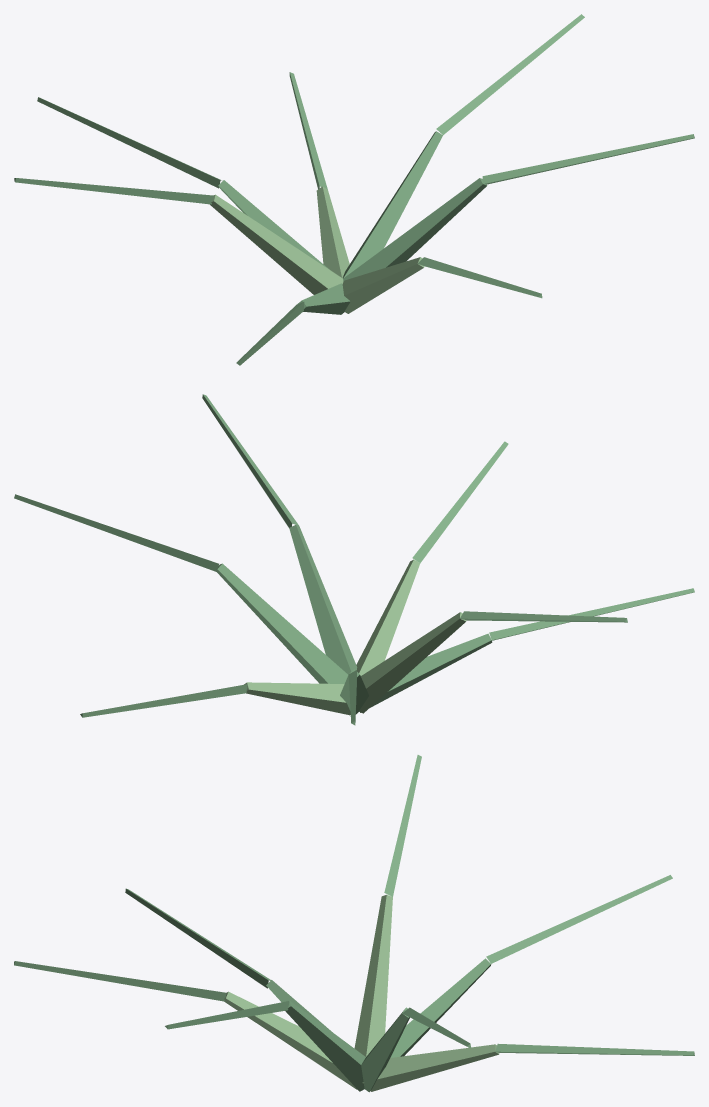
The model's file is fern_v42.glb.
3 renders of one model, top to bottom at view 1: azimuth 30°, elevation 25°; view 2: azimuth 150°, elevation 25°; view 3: azimuth 270°, elevation 25°, orthographic.
Visible parts, largest first — view 1: lod0; view 2: lod0; view 3: lod0.
Part boxes in pixels (x1=…): lod0: x1=14, y1=14, x2=694, y2=365; lod0: x1=14, y1=394, x2=694, y2=725; lod0: x1=14, y1=755, x2=694, y2=1092.
Size of what is drawn, in the model's own units: 1.44 by 0.4387 by 1.43.
